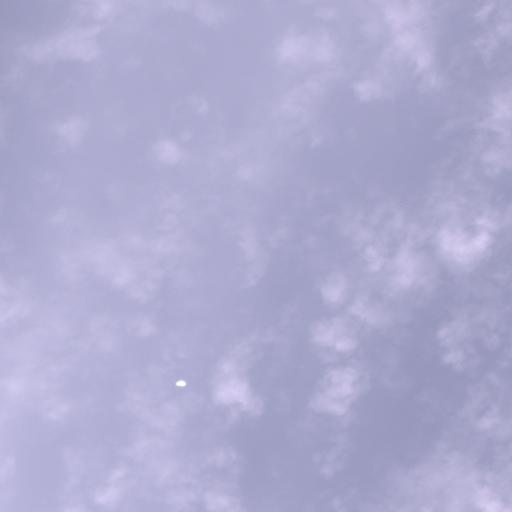Iceberg: (176, 381, 185, 385)
